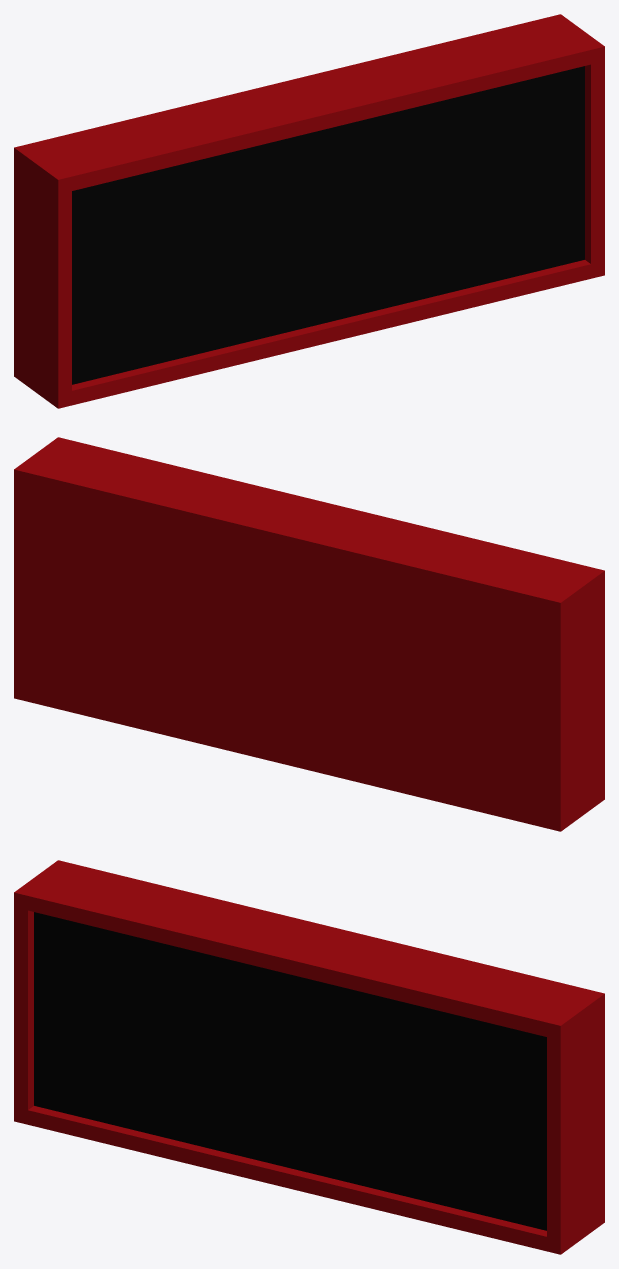
Rendered from Door Sign.fbx.
3 views of the same model, one above another, from view 1: azimuth 30°, elevation 25°; view 2: azimuth 150°, elevation 25°; view 3: azimuth 330°, elevation 25° (orthographic).
Visible parts, largest first — view 1: Cube.132; view 2: Cube.132; view 3: Cube.132.
Boxes of the visible parts, x1,y1,x2,y2 form: Cube.132: (14,14,604,408); Cube.132: (14,437,604,831); Cube.132: (14,860,604,1254).
Bounding box in the file's own units: 100 × 40 × 14.
